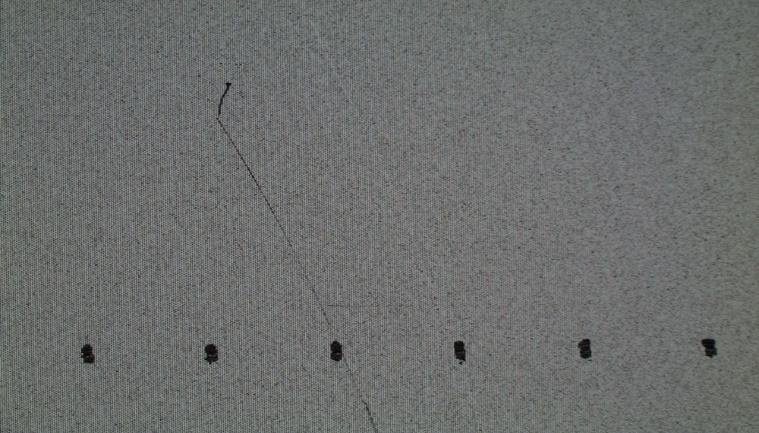SCRATCH: (208, 69, 386, 433)
